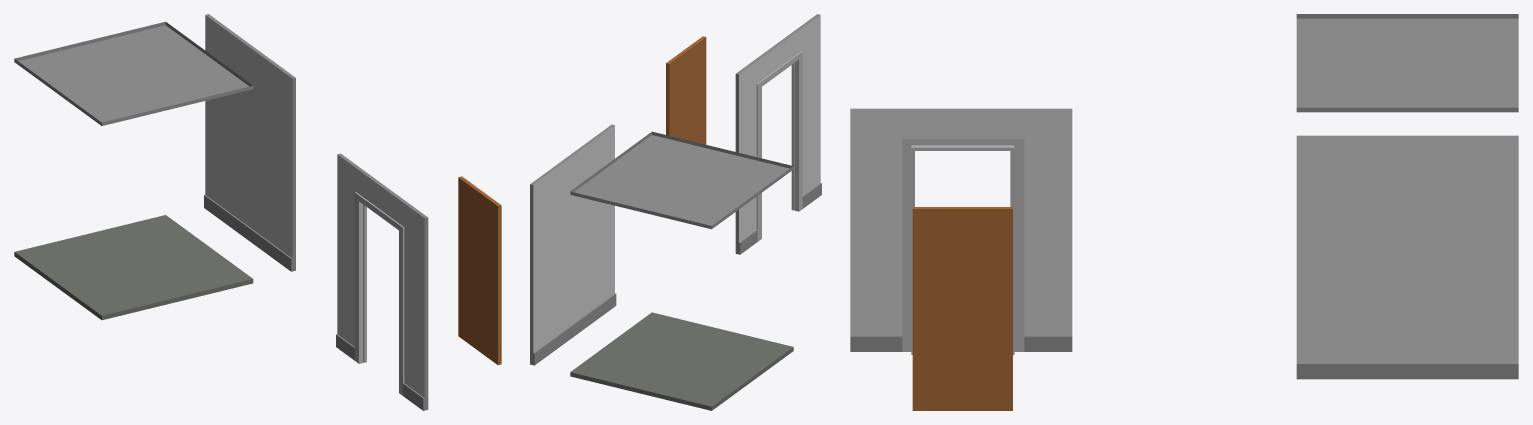
File: WallsETC.fbx
3 renders of one model, left to right at view 1: azimuth 30°, elevation 25°; view 2: azimuth 150°, elevation 25°; view 3: azimuth 270°, elevation 25°, orthographic. The views are drawn at different scales.
Parts seen in each view (by area): view 1: 2x2x2_4WTile, 2x2x2_4FCTile, 2x2x2_4CTile, 2x2x2_4WDoorTile, Door, 2x2x2_4D_InFrame; view 2: 2x2x2_4WTile, 2x2x2_4FCTile, 2x2x2_4CTile, 2x2x2_4WDoorTile, Door, 2x2x2_4D_InFrame; view 3: 2x2x2_4WTile, 2x2x2_4WDoorTile, 2x2x2_4CTile, Door, 2x2x2_4D_InFrame.
Part boxes in pixels (x1,y1,x2,y2): 2x2x2_4WTile: (204, 14, 295, 271); 2x2x2_4FCTile: (14, 215, 253, 320); 2x2x2_4CTile: (14, 21, 253, 125); 2x2x2_4WDoorTile: (336, 153, 428, 410); Door: (458, 176, 501, 364); 2x2x2_4D_InFrame: (363, 204, 366, 362); 2x2x2_4WTile: (530, 124, 616, 365); 2x2x2_4FCTile: (570, 312, 793, 410); 2x2x2_4CTile: (570, 131, 793, 229); 2x2x2_4WDoorTile: (735, 14, 821, 254); Door: (666, 36, 706, 144); 2x2x2_4D_InFrame: (791, 63, 794, 210); 2x2x2_4WTile: (1296, 135, 1518, 379); 2x2x2_4WDoorTile: (850, 108, 1072, 351); 2x2x2_4CTile: (1296, 14, 1518, 112); Door: (912, 207, 1012, 410); 2x2x2_4D_InFrame: (911, 146, 1014, 354).
Bounding box in the file's own units: 328 × 250 × 603.
